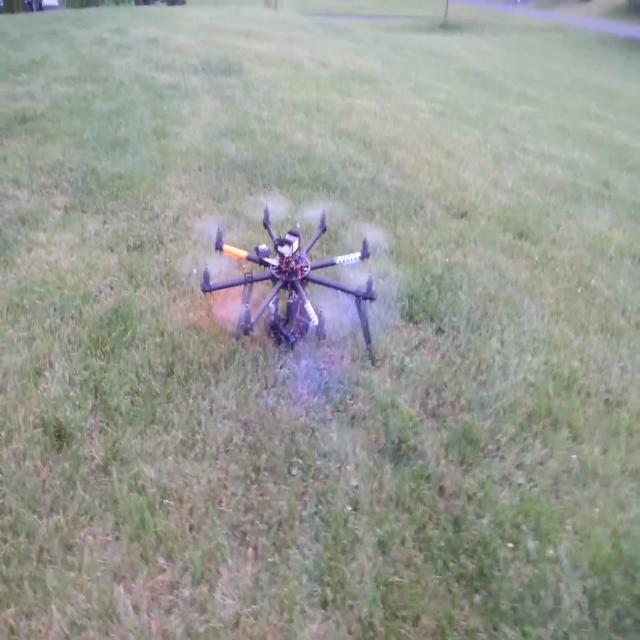drone: (191, 190, 388, 376)
